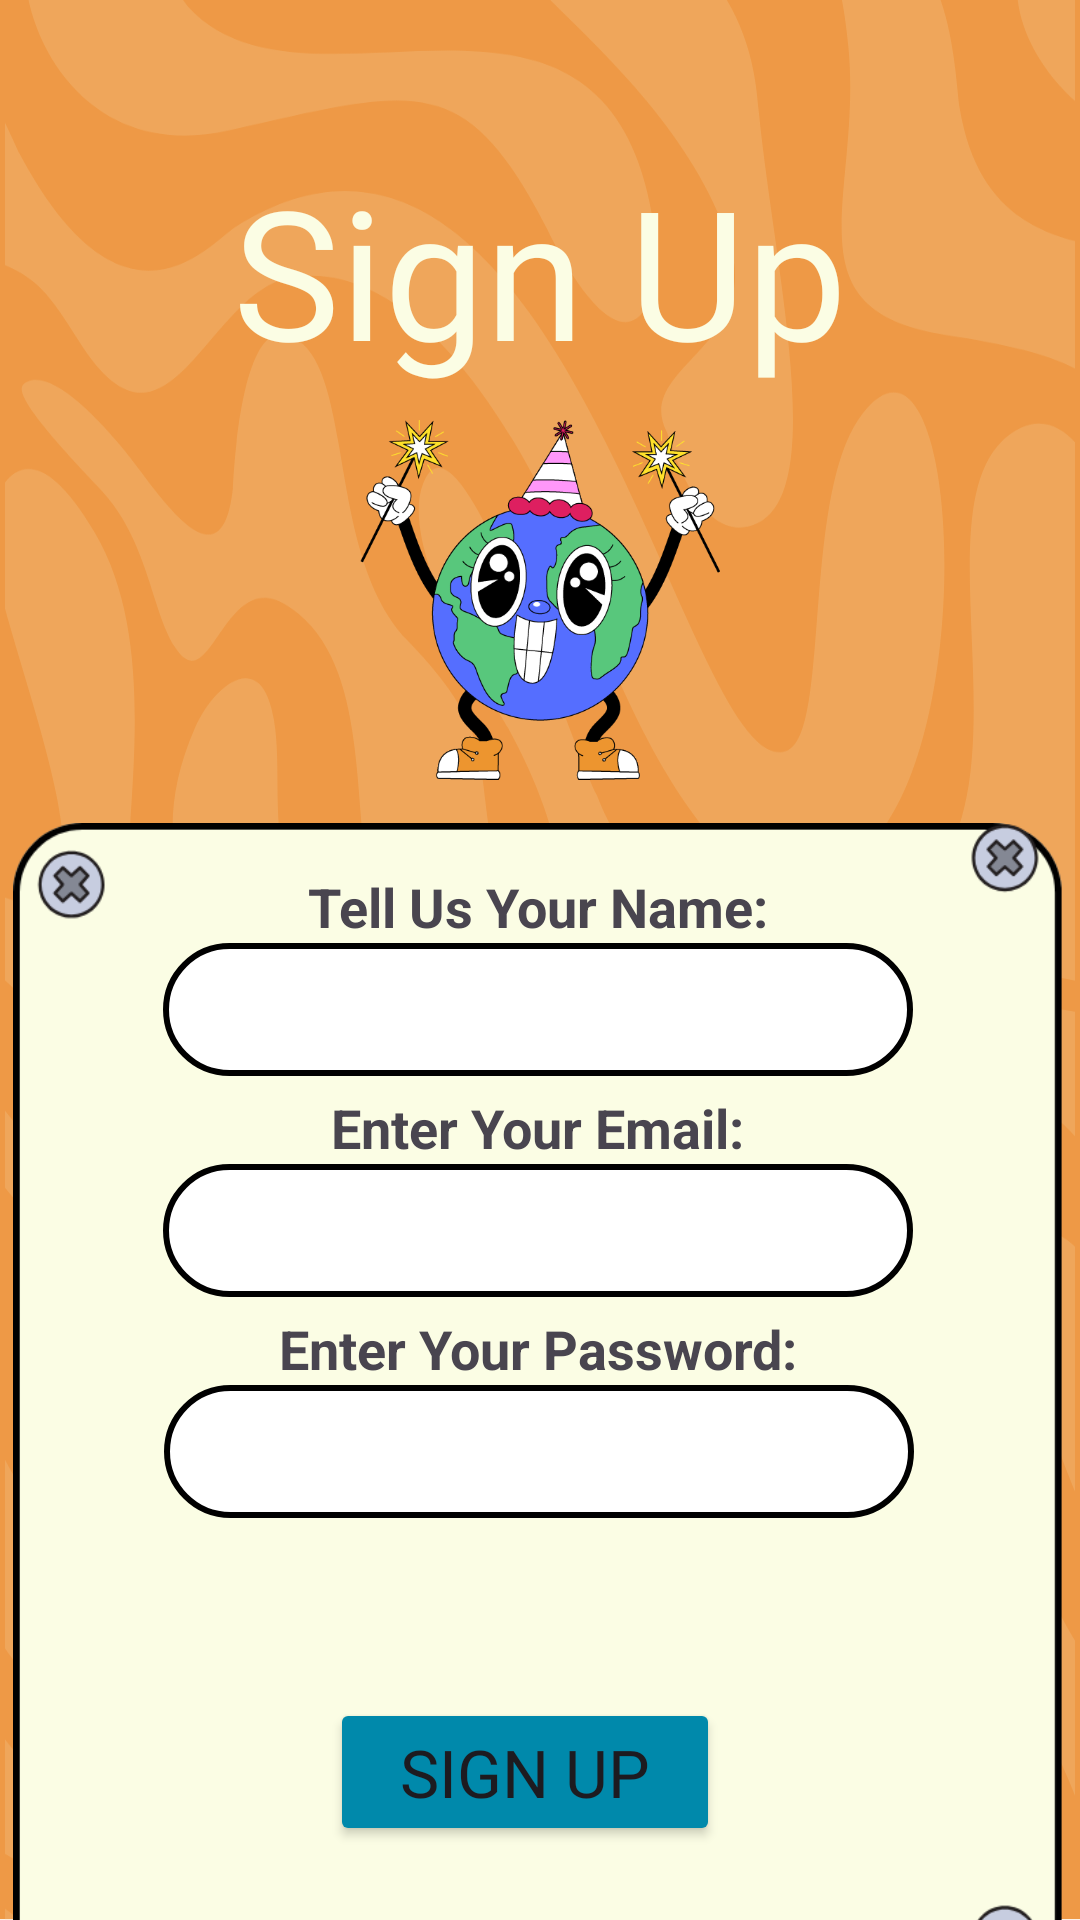

Icons on this 1080 × 1920 Android screen, each with its box as (x1, y1, x2, y2):
masscott: (360, 420, 720, 780)
